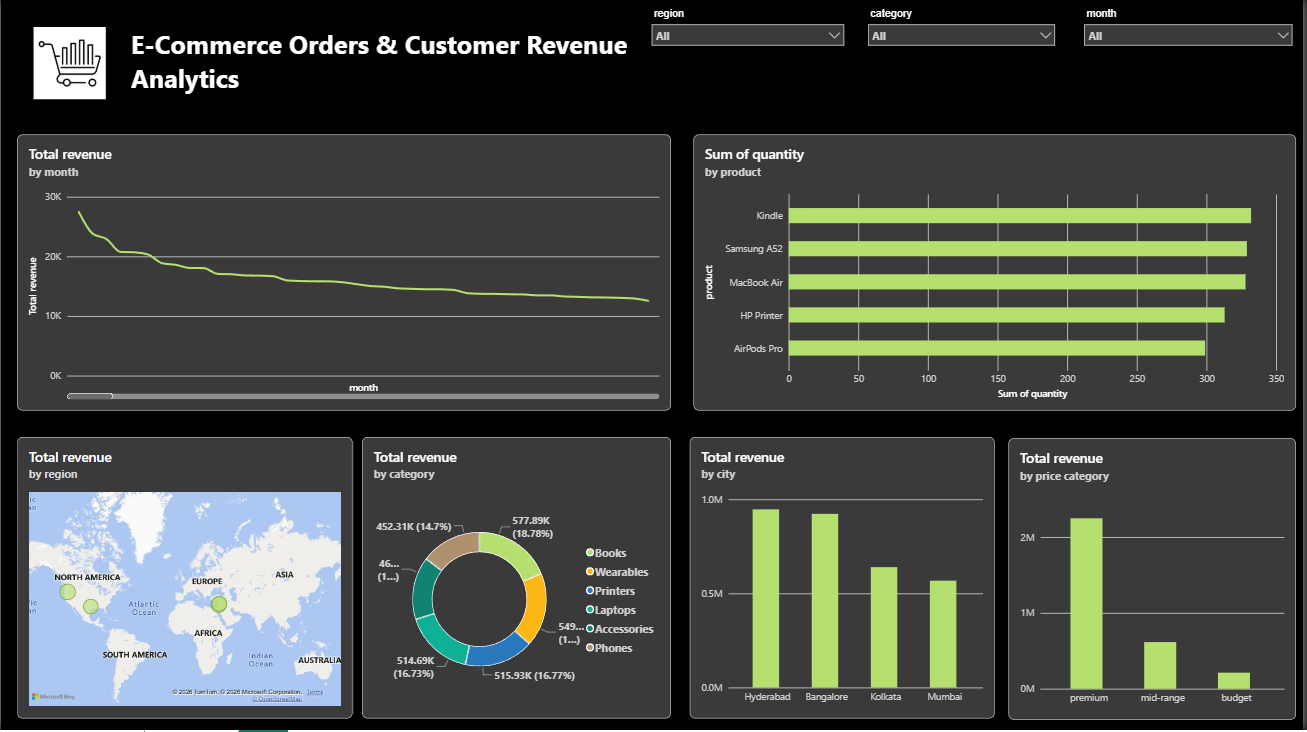

The dashboard page shown, as its layout file describes it:
{"tool":"powerbi","page":{"name":"Summary","canvas":[1920,1080],"ordinal":0},"visuals":[{"type":"lineChart","fields":{"Category":["ramesh_analyst ecommerce_orders.Month"],"Y":["ramesh_analyst ecommerce_orders.Total revenue"]},"box":[23.9,202.5,962.6,406.8],"z":0},{"type":"clusteredBarChart","fields":{"Category":["ramesh_analyst ecommerce_orders.product"],"Y":["Sum(ramesh_analyst ecommerce_orders.quantity)"]},"box":[1019.6,202.5,887.1,406.8],"z":1000},{"type":"map","fields":{"Category":["ramesh_analyst ecommerce_orders.region"],"Size":["ramesh_analyst ecommerce_orders.Total revenue"]},"box":[23.9,647.9,493.3,414.1],"z":2000},{"type":"donutChart","fields":{"Category":["ramesh_analyst ecommerce_orders.category"],"Y":["ramesh_analyst ecommerce_orders.Total revenue"]},"box":[531.9,647.9,454.6,414.1],"z":3000},{"type":"columnChart","fields":{"Category":["ramesh_analyst ecommerce_customers.city"],"Y":["ramesh_analyst ecommerce_orders.Total revenue"]},"box":[1014.1,647.9,449.1,414.1],"z":4000},{"type":"columnChart","fields":{"Category":["ramesh_analyst ecommerce_orders.price category"],"Y":["ramesh_analyst ecommerce_orders.Total revenue"]},"box":[1483.4,649.7,423.3,414.1],"z":5000},{"type":"slicer","fields":{"Values":["ramesh_analyst ecommerce_orders.region"]},"box":[953.4,14.7,292.6,167.5],"z":6000},{"type":"slicer","fields":{"Values":["ramesh_analyst ecommerce_orders.category"]},"box":[1271.8,14.7,285.3,167.5],"z":7000},{"type":"slicer","fields":{"Values":["ramesh_analyst ecommerce_orders.Month"]},"box":[1590.2,14.7,316.6,167.5],"z":8000},{"type":"textbox","box":[191.4,44.2,747.2,106.7],"z":9000},{"type":"image","box":[23.9,44.2,154.6,106.7],"z":9001}]}

Visuals, with their boxes in screenshot pixels (x1, y1, x2, y2), scaled from the page's 1920x1080 canvas onto the 1307x732 screenshot:
lineChart - ramesh_analyst ecommerce_orders.Month x ramesh_analyst ecommerce_orders.Total revenue: [left=16, top=137, right=672, bottom=413]
clusteredBarChart - ramesh_analyst ecommerce_orders.product x Sum(ramesh_analyst ecommerce_orders.quantity): [left=694, top=137, right=1298, bottom=413]
map - ramesh_analyst ecommerce_orders.region x ramesh_analyst ecommerce_orders.Total revenue: [left=16, top=439, right=352, bottom=720]
donutChart - ramesh_analyst ecommerce_orders.category x ramesh_analyst ecommerce_orders.Total revenue: [left=362, top=439, right=672, bottom=720]
columnChart - ramesh_analyst ecommerce_customers.city x ramesh_analyst ecommerce_orders.Total revenue: [left=690, top=439, right=996, bottom=720]
columnChart - ramesh_analyst ecommerce_orders.price category x ramesh_analyst ecommerce_orders.Total revenue: [left=1010, top=440, right=1298, bottom=721]
slicer - ramesh_analyst ecommerce_orders.region: [left=649, top=10, right=848, bottom=123]
slicer - ramesh_analyst ecommerce_orders.category: [left=866, top=10, right=1060, bottom=123]
slicer - ramesh_analyst ecommerce_orders.Month: [left=1082, top=10, right=1298, bottom=123]
textbox: [left=130, top=30, right=639, bottom=102]
image: [left=16, top=30, right=122, bottom=102]
